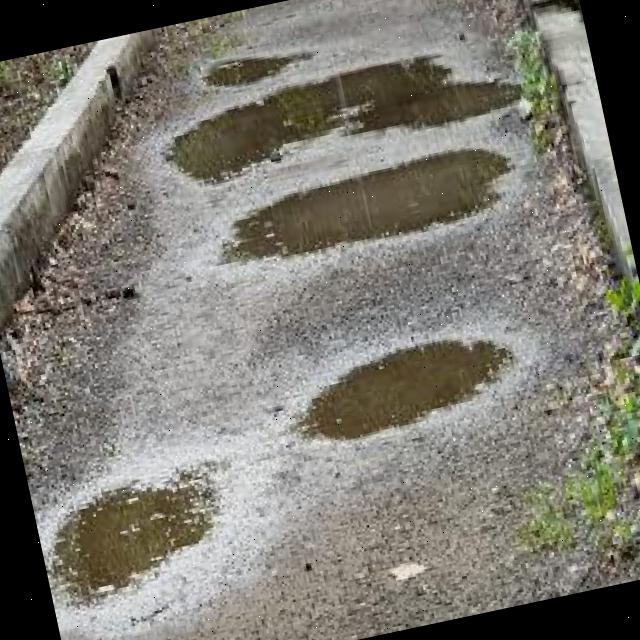stagnation: (170, 131, 552, 304), (260, 298, 537, 492), (25, 426, 265, 639), (178, 12, 330, 100)
